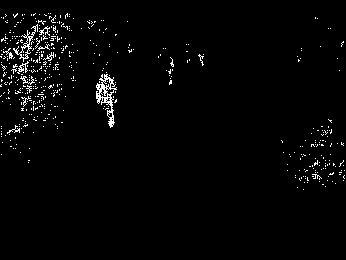person: (96, 70, 120, 128)
